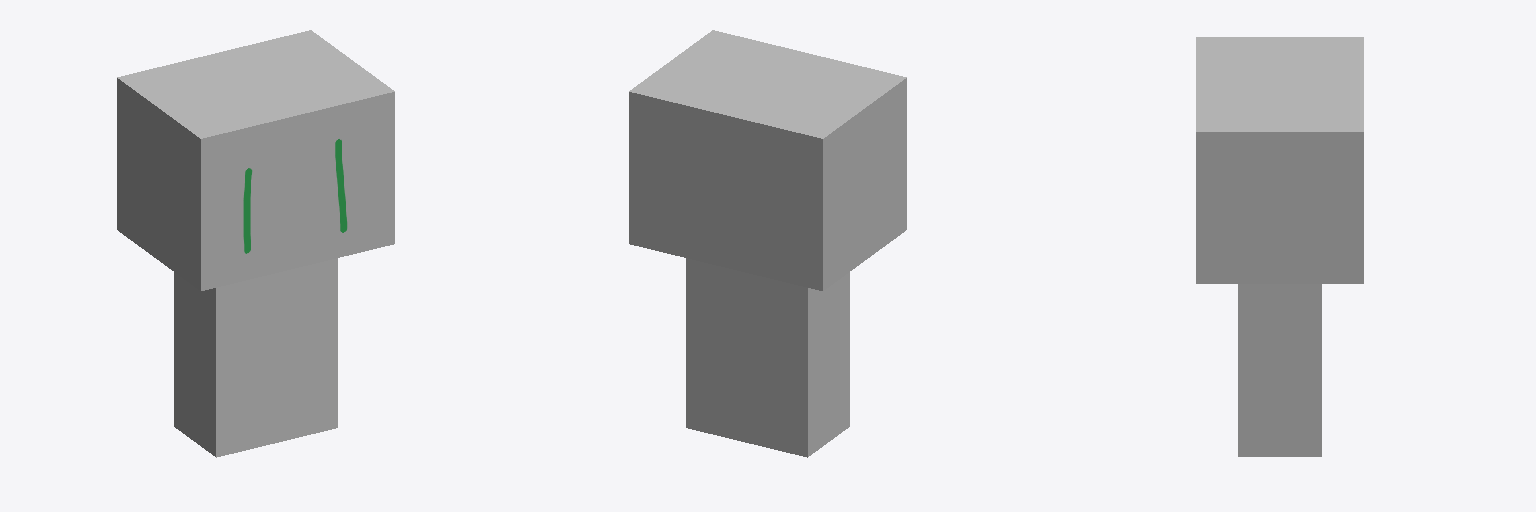
The picture shows the model from 3 angles: view 1: azimuth 30°, elevation 25°; view 2: azimuth 150°, elevation 25°; view 3: azimuth 270°, elevation 25°; orthographic projection.
Visible parts, largest first — view 1: 立方体, Cube; view 2: 立方体, Cube; view 3: 立方体, Cube.
Part boxes in pixels (bbox=[...]): 立方体: bbox=[117, 30, 394, 290]; Cube: bbox=[174, 258, 337, 457]; 立方体: bbox=[629, 30, 906, 290]; Cube: bbox=[686, 258, 849, 457]; 立方体: bbox=[1196, 37, 1363, 283]; Cube: bbox=[1238, 284, 1321, 456].
Size of the model in its own units: 1.6 by 2.7 by 1.2.
Materials: 2 (1 with a texture image).